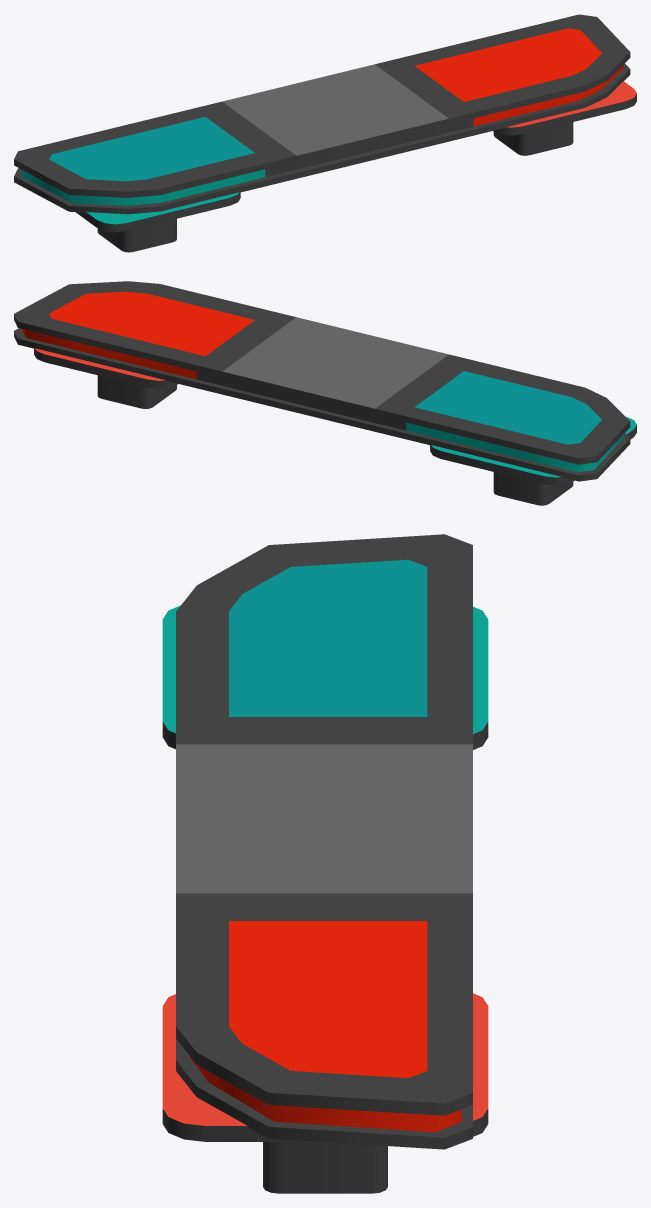
File: PoliceLights.fbx
3 views of the same model, one above another, from view 1: azimuth 30°, elevation 25°; view 2: azimuth 150°, elevation 25°; view 3: azimuth 270°, elevation 25° (orthographic). The views are drawn at different scales.
Visible parts, largest first — view 1: TopLights; view 2: TopLights; view 3: TopLights.
Part boxes in pixels (<box>): TopLights: <box>14,14,636,252</box>; TopLights: <box>14,281,636,505</box>; TopLights: <box>162,534,488,1193</box>.
Size of the model in its own units: 124 by 15.74 by 29.98.
